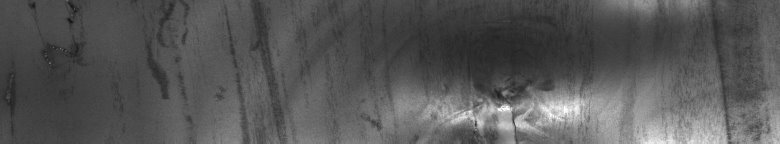ke: (451, 86, 550, 136)
